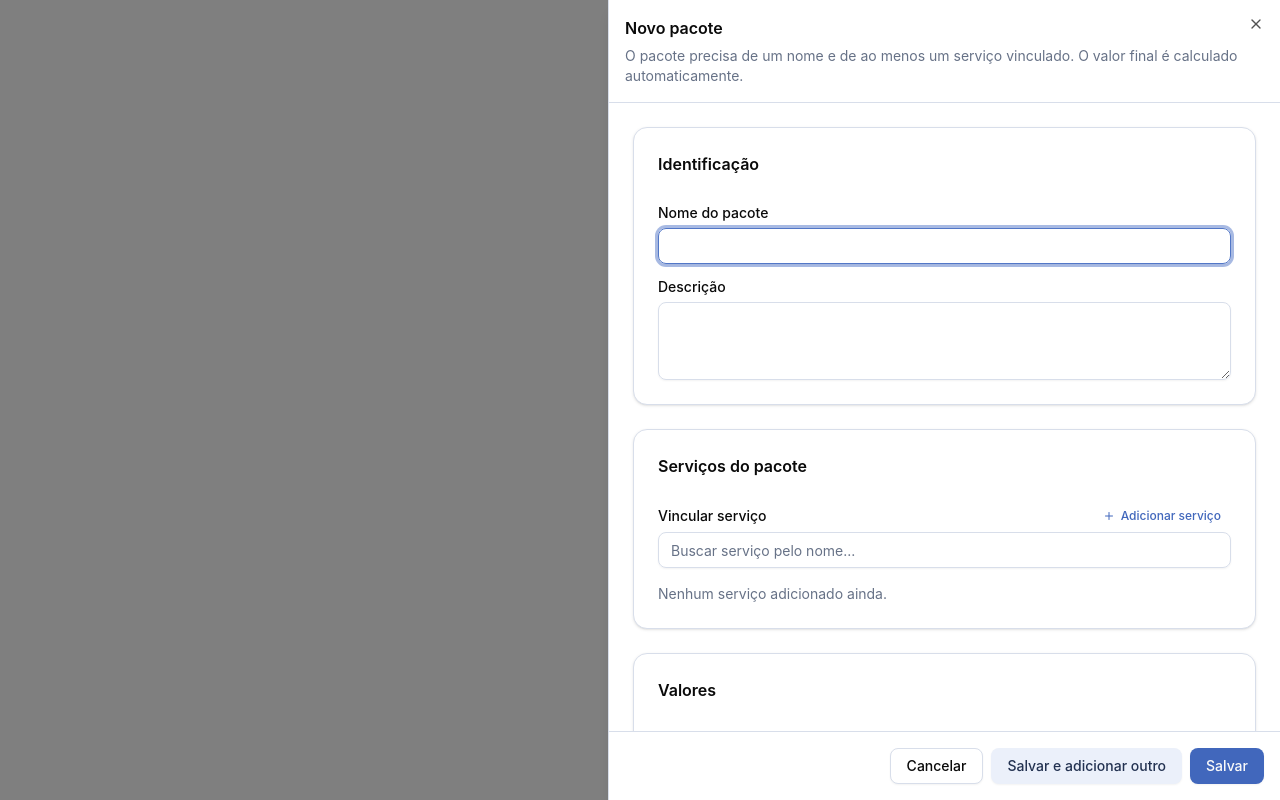
Scenario: PackageFormSheet › creates a service inline and auto-adds it to the package without losing data
This screenshot has width=1280, height=800.
Type "Pacote Inline" into the field labelled "Nome do pacote" at (944, 246), box [658,228,1231,264]
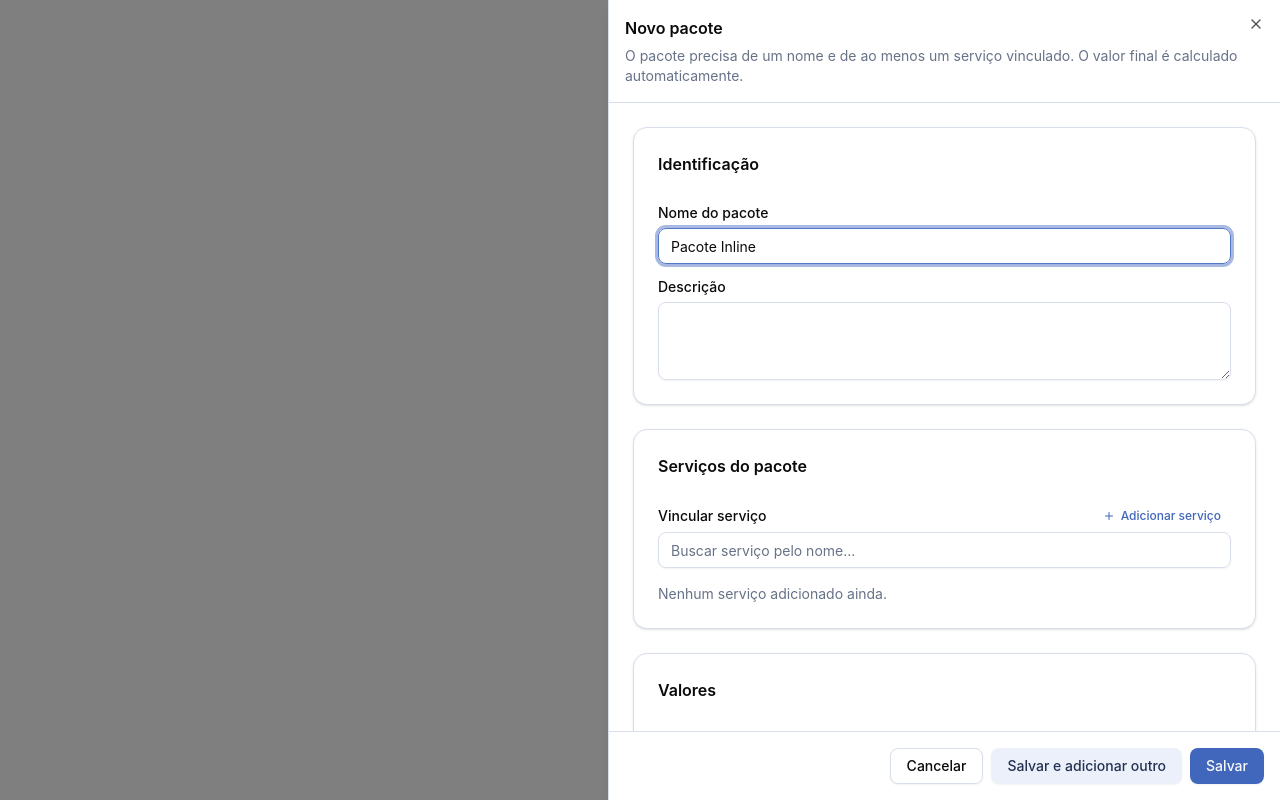
Click the button "Adicionar serviço" at (1162, 516), box [1093,508,1231,524]
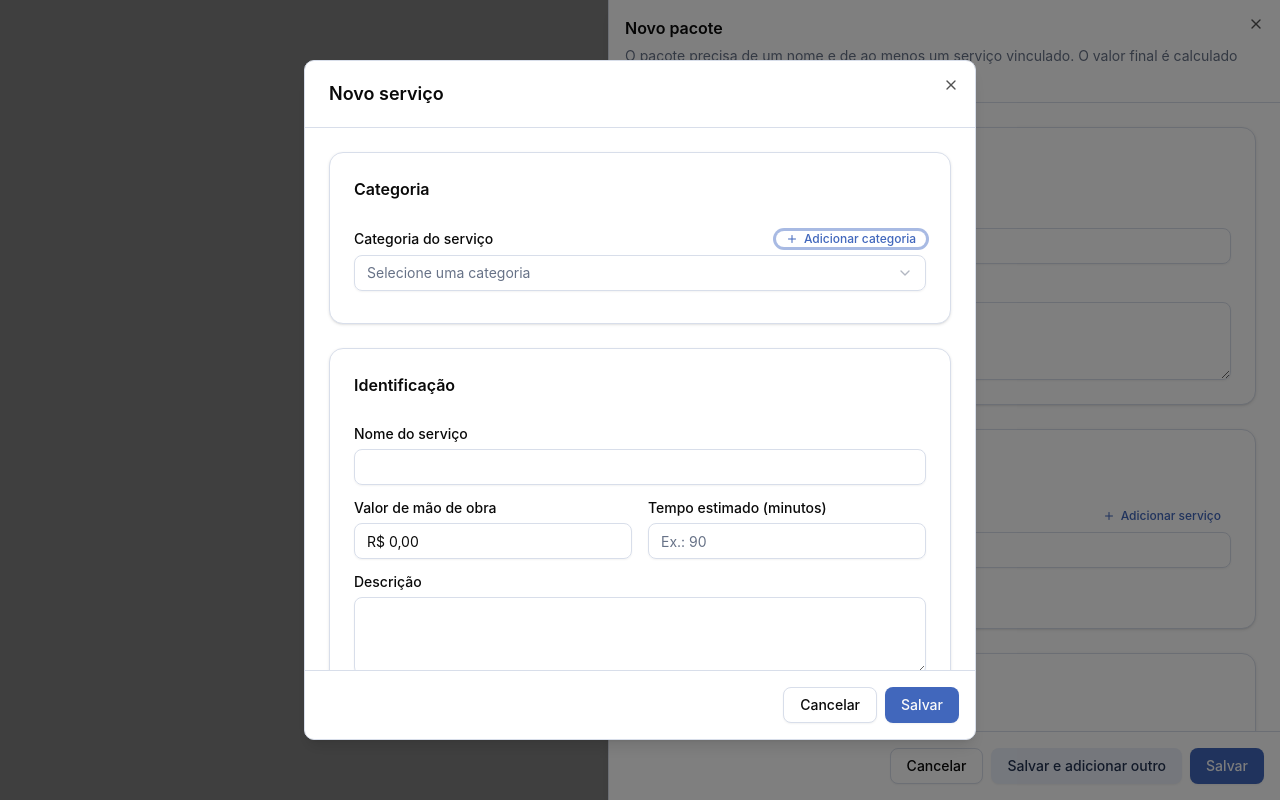
Type "Serviço Novo" into the field labelled "Nome do serviço" at (640, 467), box [354,449,926,485]
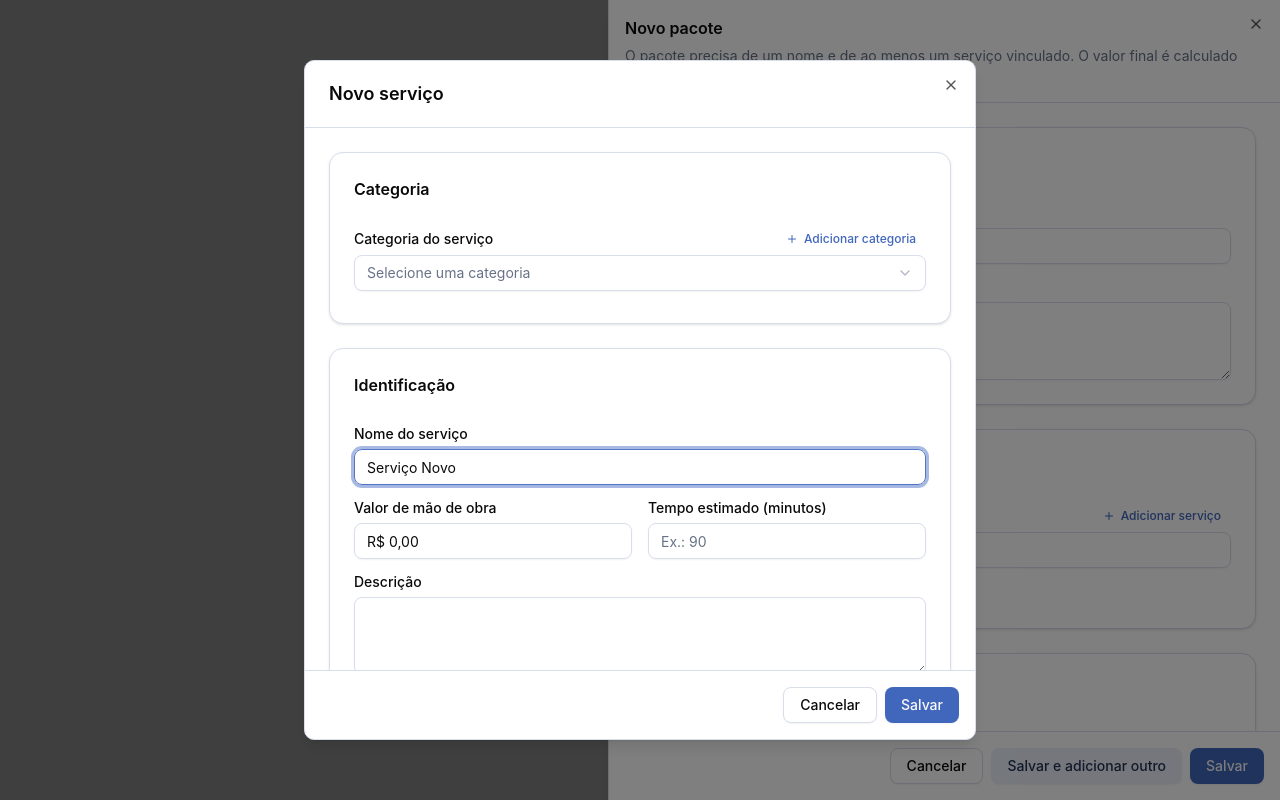
Click the dropdown named "Categoria do serviço" at (449, 272), box [354,255,926,291]
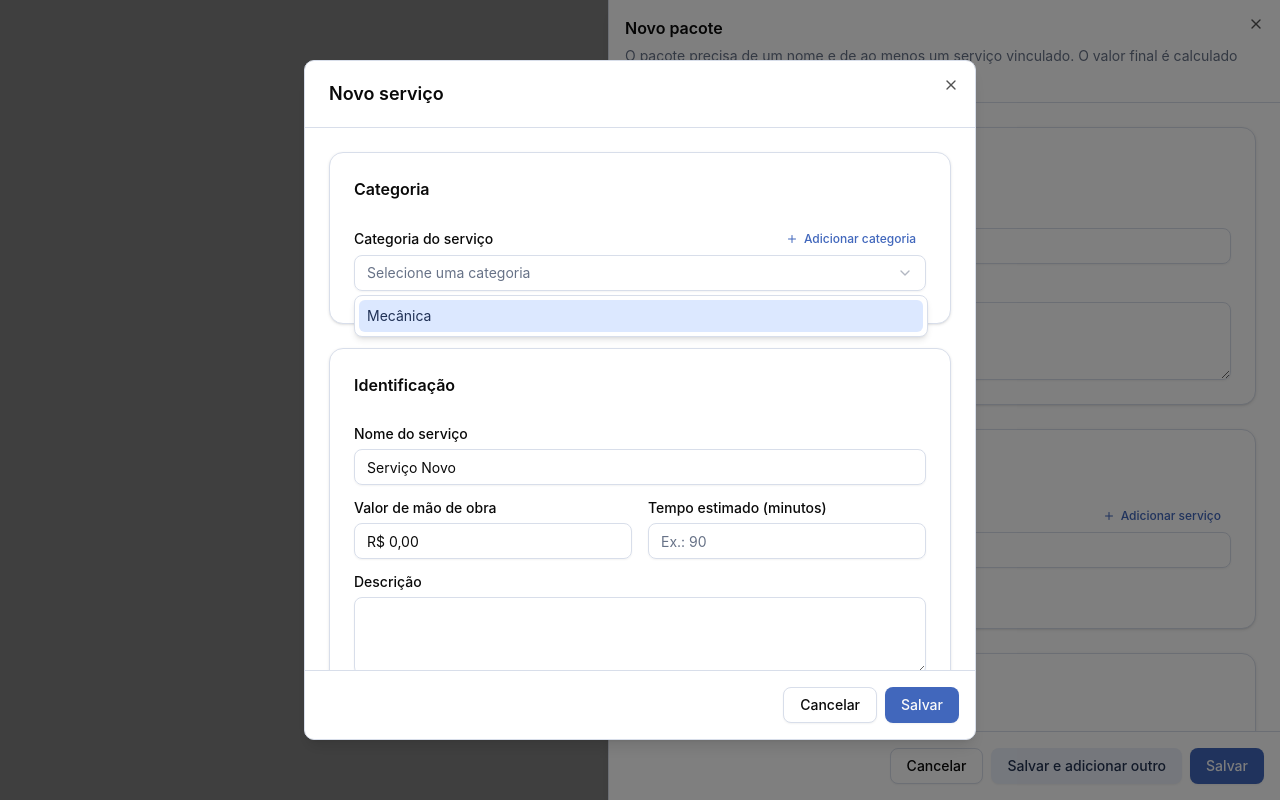
Click the option "Mecânica" at (399, 316), box [359,300,923,332]
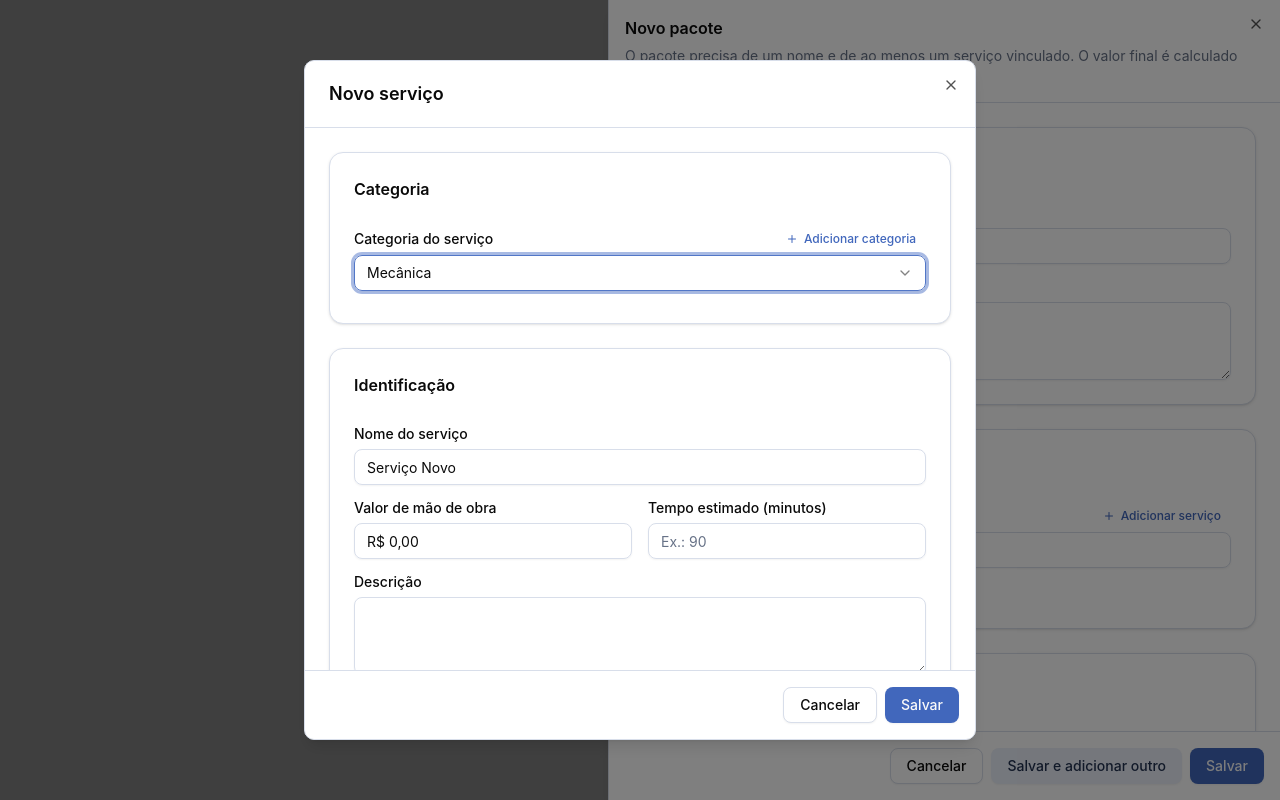
Click the button "Salvar" at (922, 705), box [885,687,959,723]
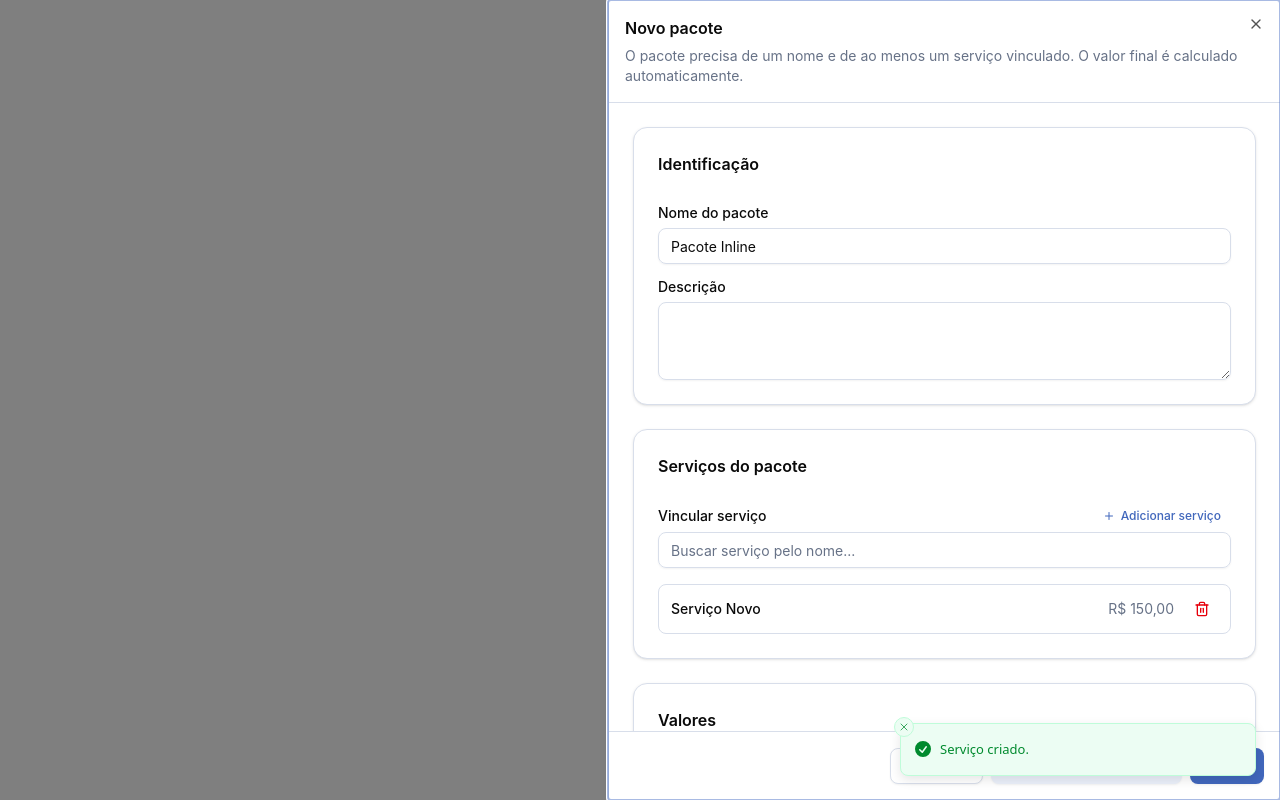
Check: the heading "Novo serviço" is gone
Check: the text "Serviço Novo" is shown, box [671,600,761,617]
